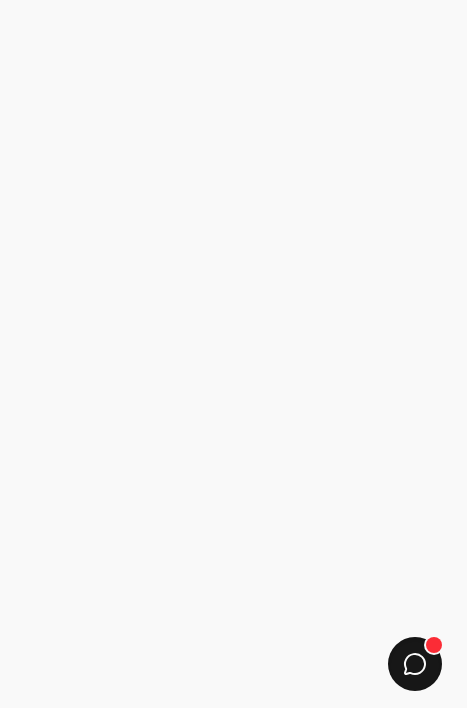
ChatWidget › opens the chat panel when the launcher is clicked
Click the button named "Open chat": (415, 664) [387,636,443,692]
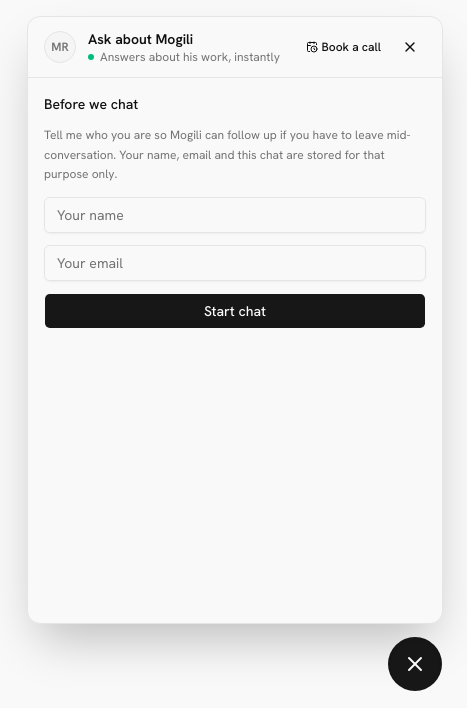
expect the text "Ask about Mogili" is shown: met, box [88,30,193,48]
